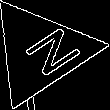N_SW: (6, 21, 76, 83)
